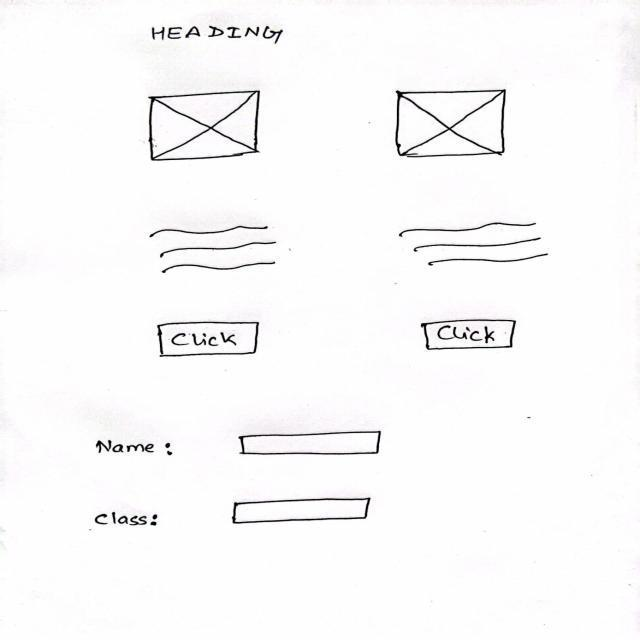textbox: (224, 429, 395, 466), (224, 492, 378, 530)
